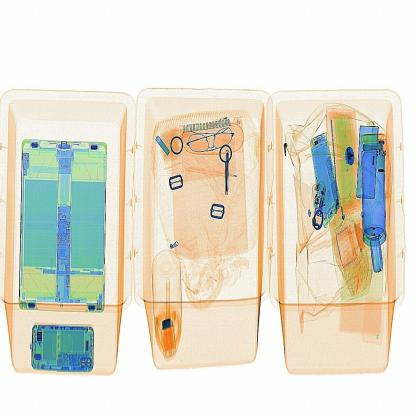knife: (217, 144, 237, 204)
